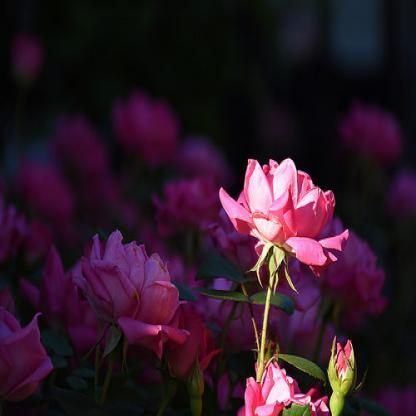Rose-Mawar: (225, 147, 370, 416)
